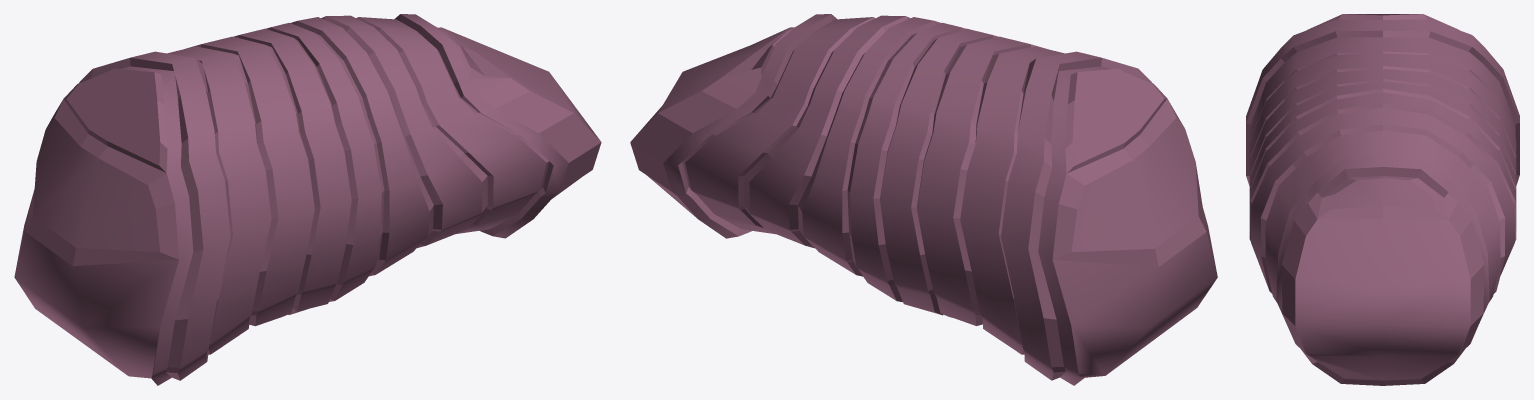
File: Cochineal.fbx
The picture shows the model from 3 angles, left to right: view 1: azimuth 30°, elevation 25°; view 2: azimuth 150°, elevation 25°; view 3: azimuth 270°, elevation 25°; orthographic projection. The views are drawn at different scales.
Visible parts, largest first — view 1: pCylinder13; view 2: pCylinder13; view 3: pCylinder13.
Part boxes in pixels (x1,y1,x2,y2): pCylinder13: [14, 14, 601, 385]; pCylinder13: [630, 14, 1217, 385]; pCylinder13: [1246, 14, 1519, 385].
Bounding box in the file's own units: 4.29 × 2.19 × 2.09.
